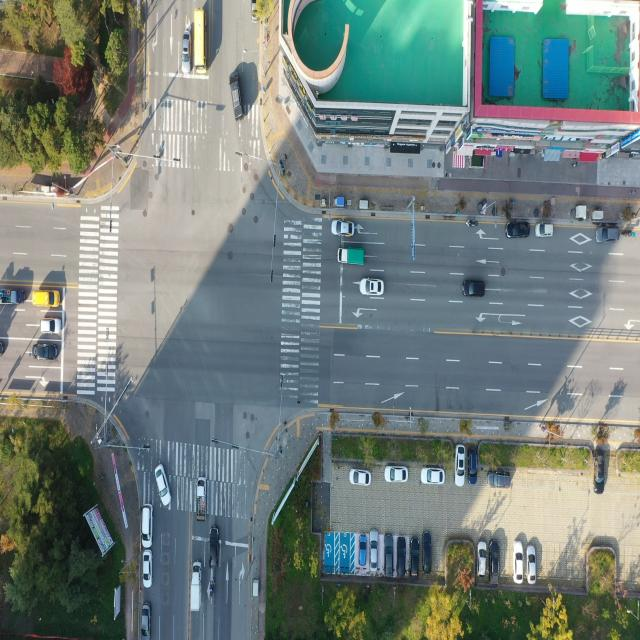car: (231, 72, 246, 121), (157, 465, 172, 508), (33, 288, 61, 308), (142, 509, 154, 551), (181, 29, 191, 75), (396, 537, 407, 578), (422, 530, 432, 575), (139, 603, 151, 640), (34, 344, 58, 362), (488, 472, 512, 490), (491, 540, 501, 583), (210, 529, 220, 572), (512, 543, 522, 585), (385, 535, 395, 577), (456, 444, 466, 486), (361, 279, 384, 297), (596, 228, 620, 245), (527, 544, 537, 584), (412, 536, 422, 576), (422, 467, 444, 485), (463, 280, 485, 298), (508, 223, 531, 240), (142, 551, 152, 588), (369, 534, 378, 575), (333, 220, 356, 236), (350, 469, 371, 486), (386, 466, 408, 482), (358, 536, 368, 570), (596, 450, 606, 484), (480, 542, 489, 578), (468, 448, 477, 484), (41, 319, 61, 335), (535, 223, 553, 237), (251, 0, 261, 25), (0, 342, 5, 358)
small_bus: (192, 8, 207, 74)
small_truck: (190, 563, 202, 613), (338, 248, 365, 267), (198, 478, 209, 522), (0, 286, 24, 305)
